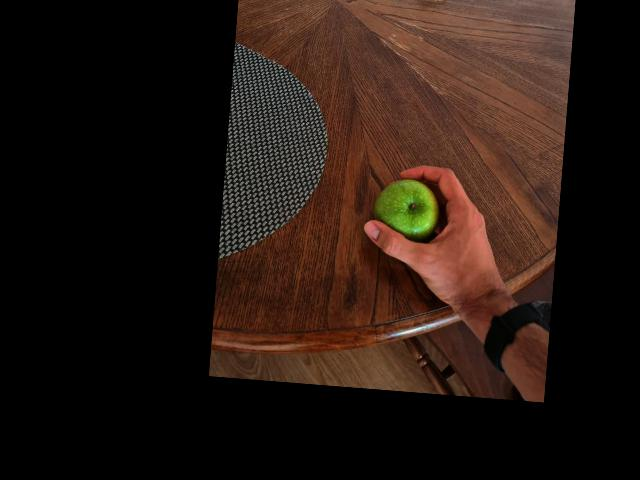apple: (367, 180, 437, 239)
